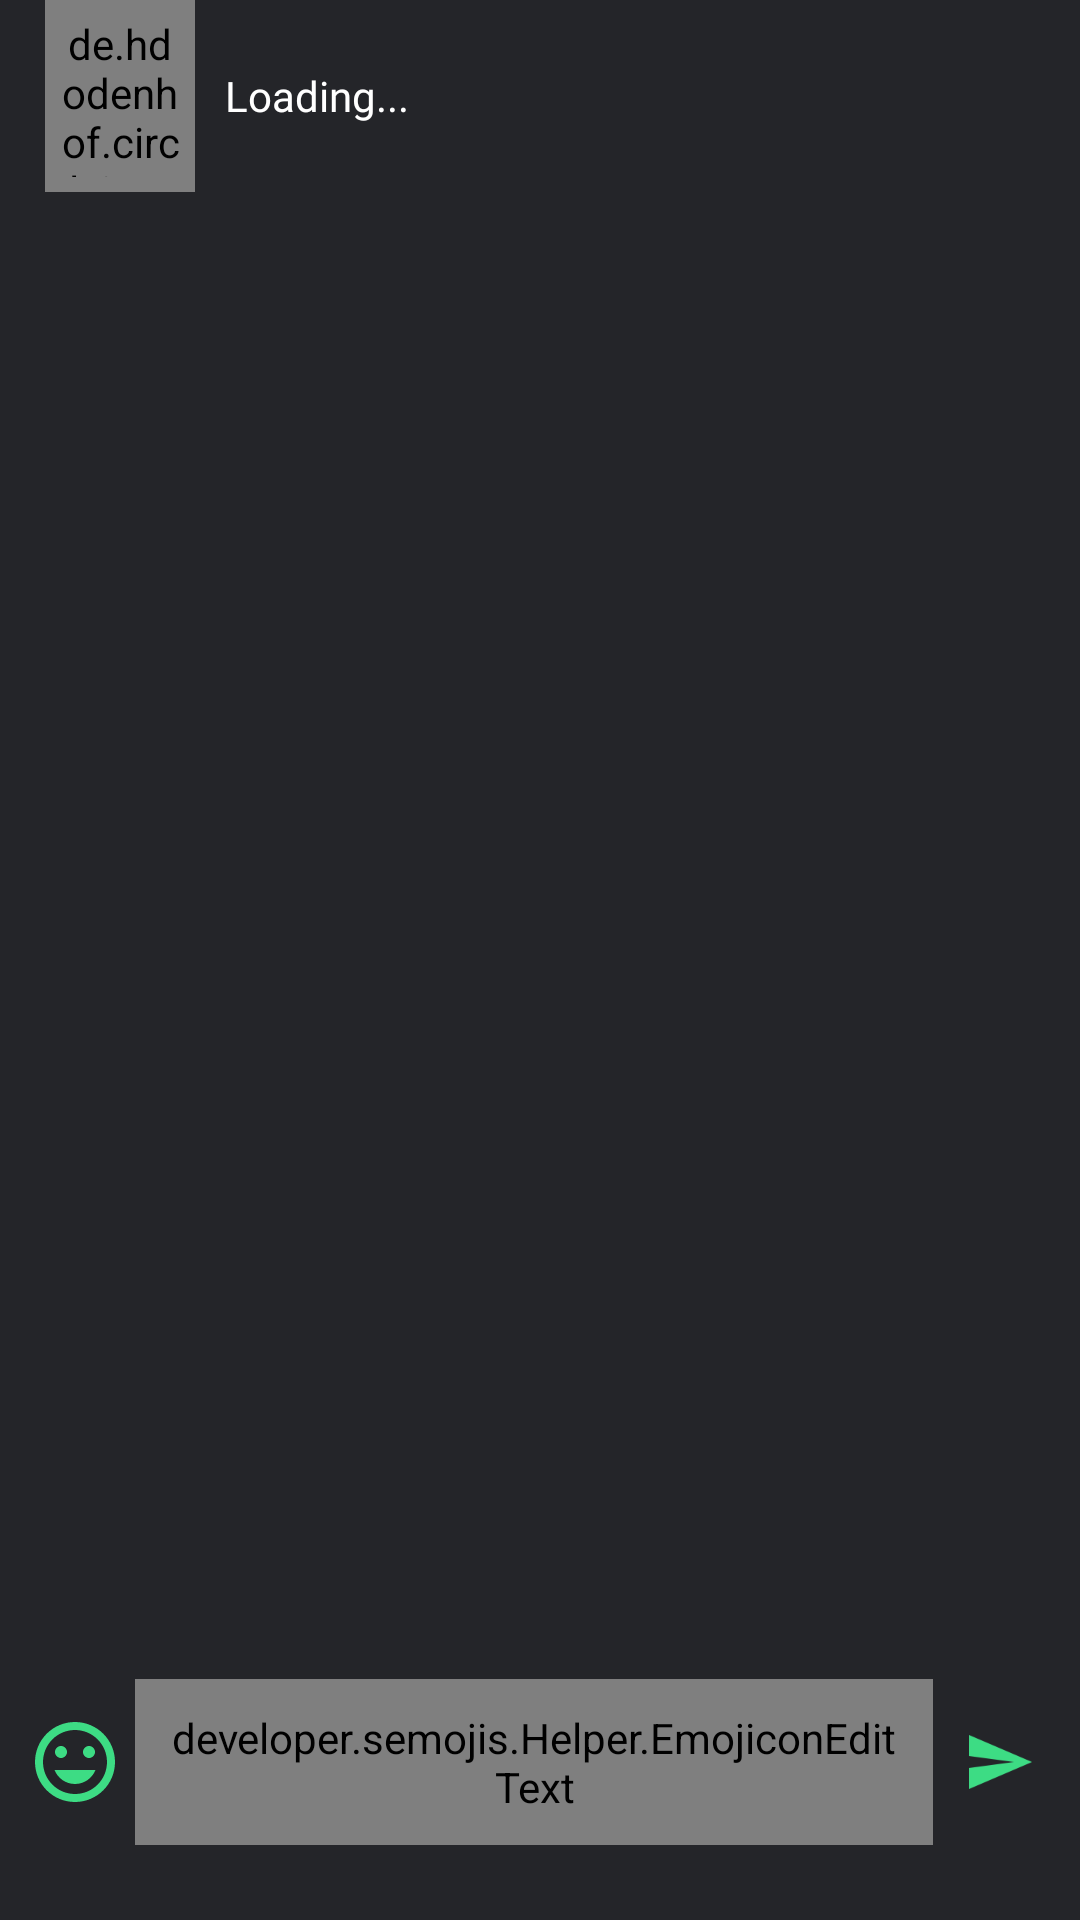

Where icons sit on this 1080×1920 app screen, as (x1, y1, x2, y2):
send msg: (969, 1735, 1032, 1789)
smily: (35, 1722, 115, 1802)
